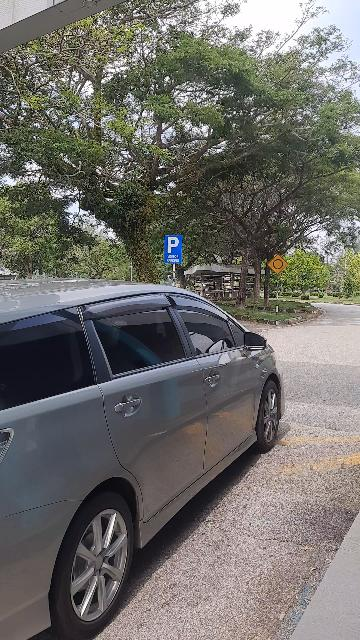car: (2, 275, 315, 640)
